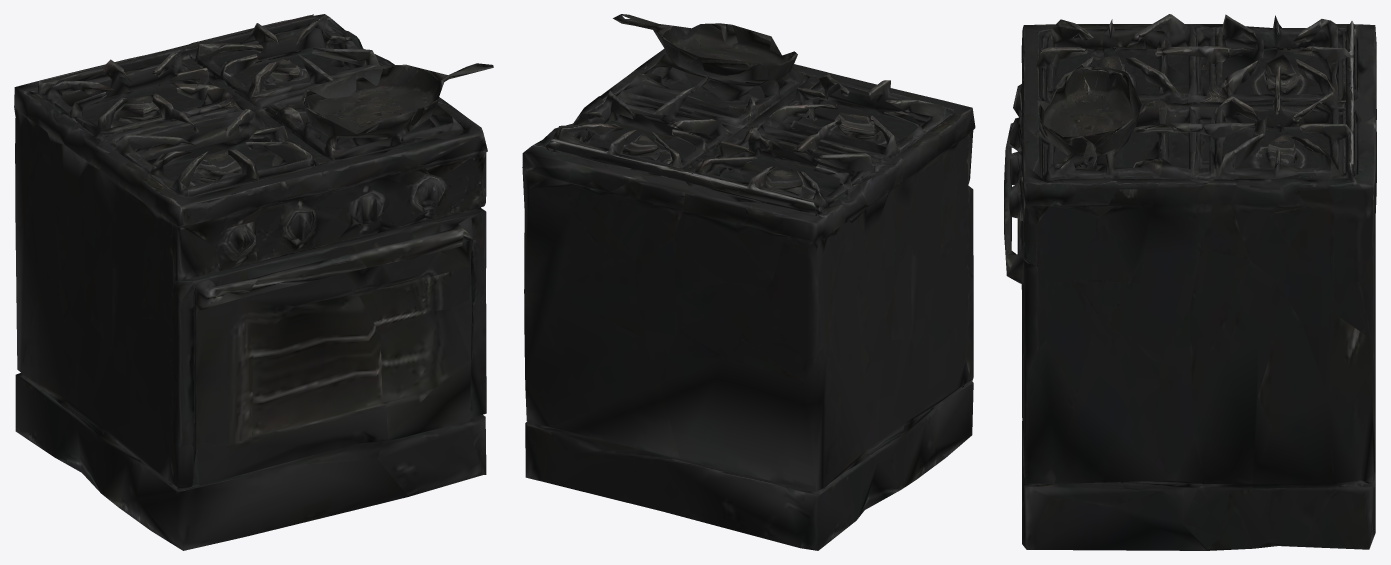
Rendered from mobile.glb.
3 views of the same model, side by side, from view 1: azimuth 30°, elevation 25°; view 2: azimuth 150°, elevation 25°; view 3: azimuth 270°, elevation 25° (orthographic). The views are drawn at different scales.
Parts seen in each view (by area): view 1: d-stove; view 2: d-stove; view 3: d-stove.
Boxes of the visible parts, x1,y1,x2,y2 form: d-stove: (14, 14, 493, 550); d-stove: (522, 14, 975, 550); d-stove: (1004, 14, 1376, 550).
Size of the model in its own units: 0.7469 by 0.7961 by 0.6495.
Materials: 1 (1 with a texture image).
